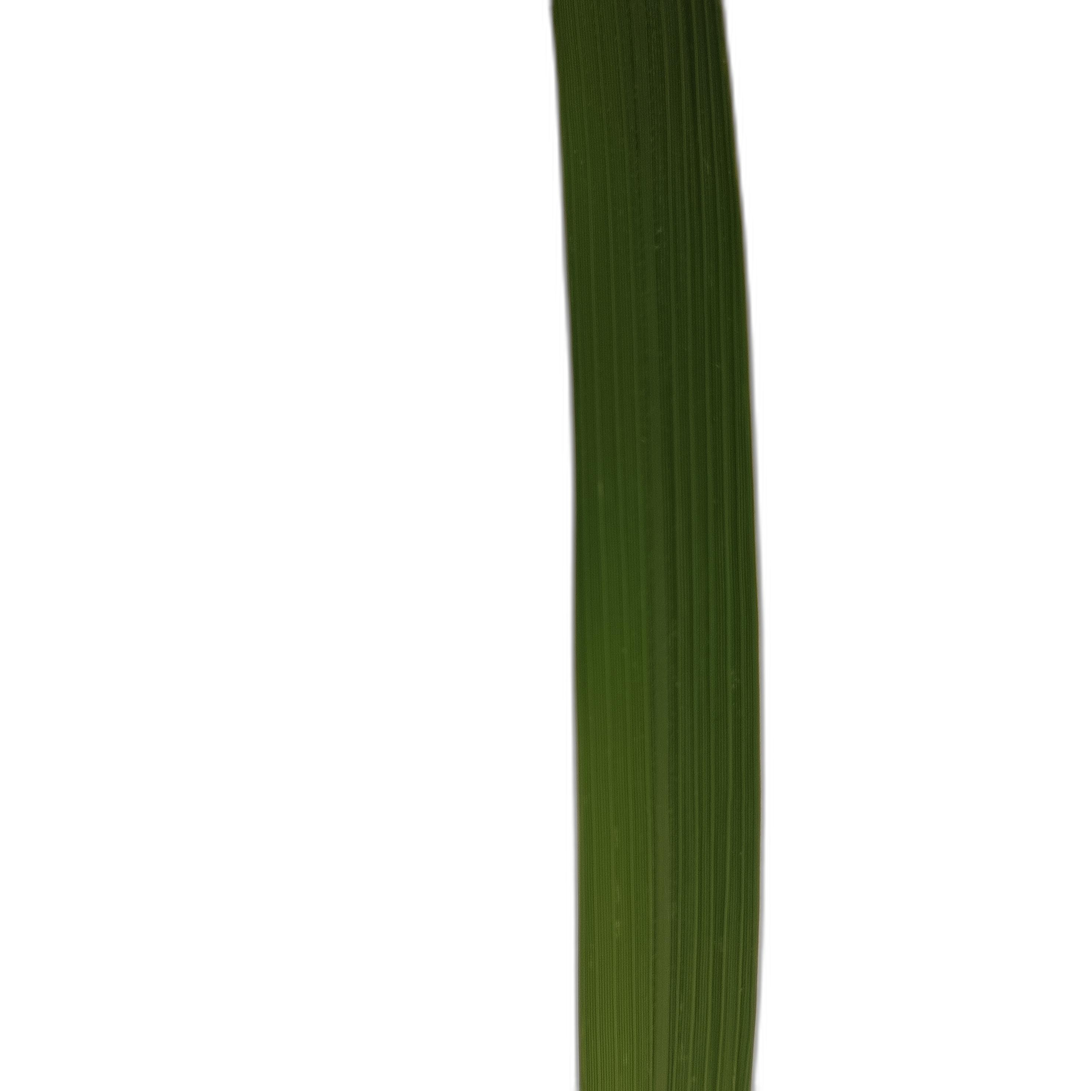Healthy: (553, 0, 759, 1090)
